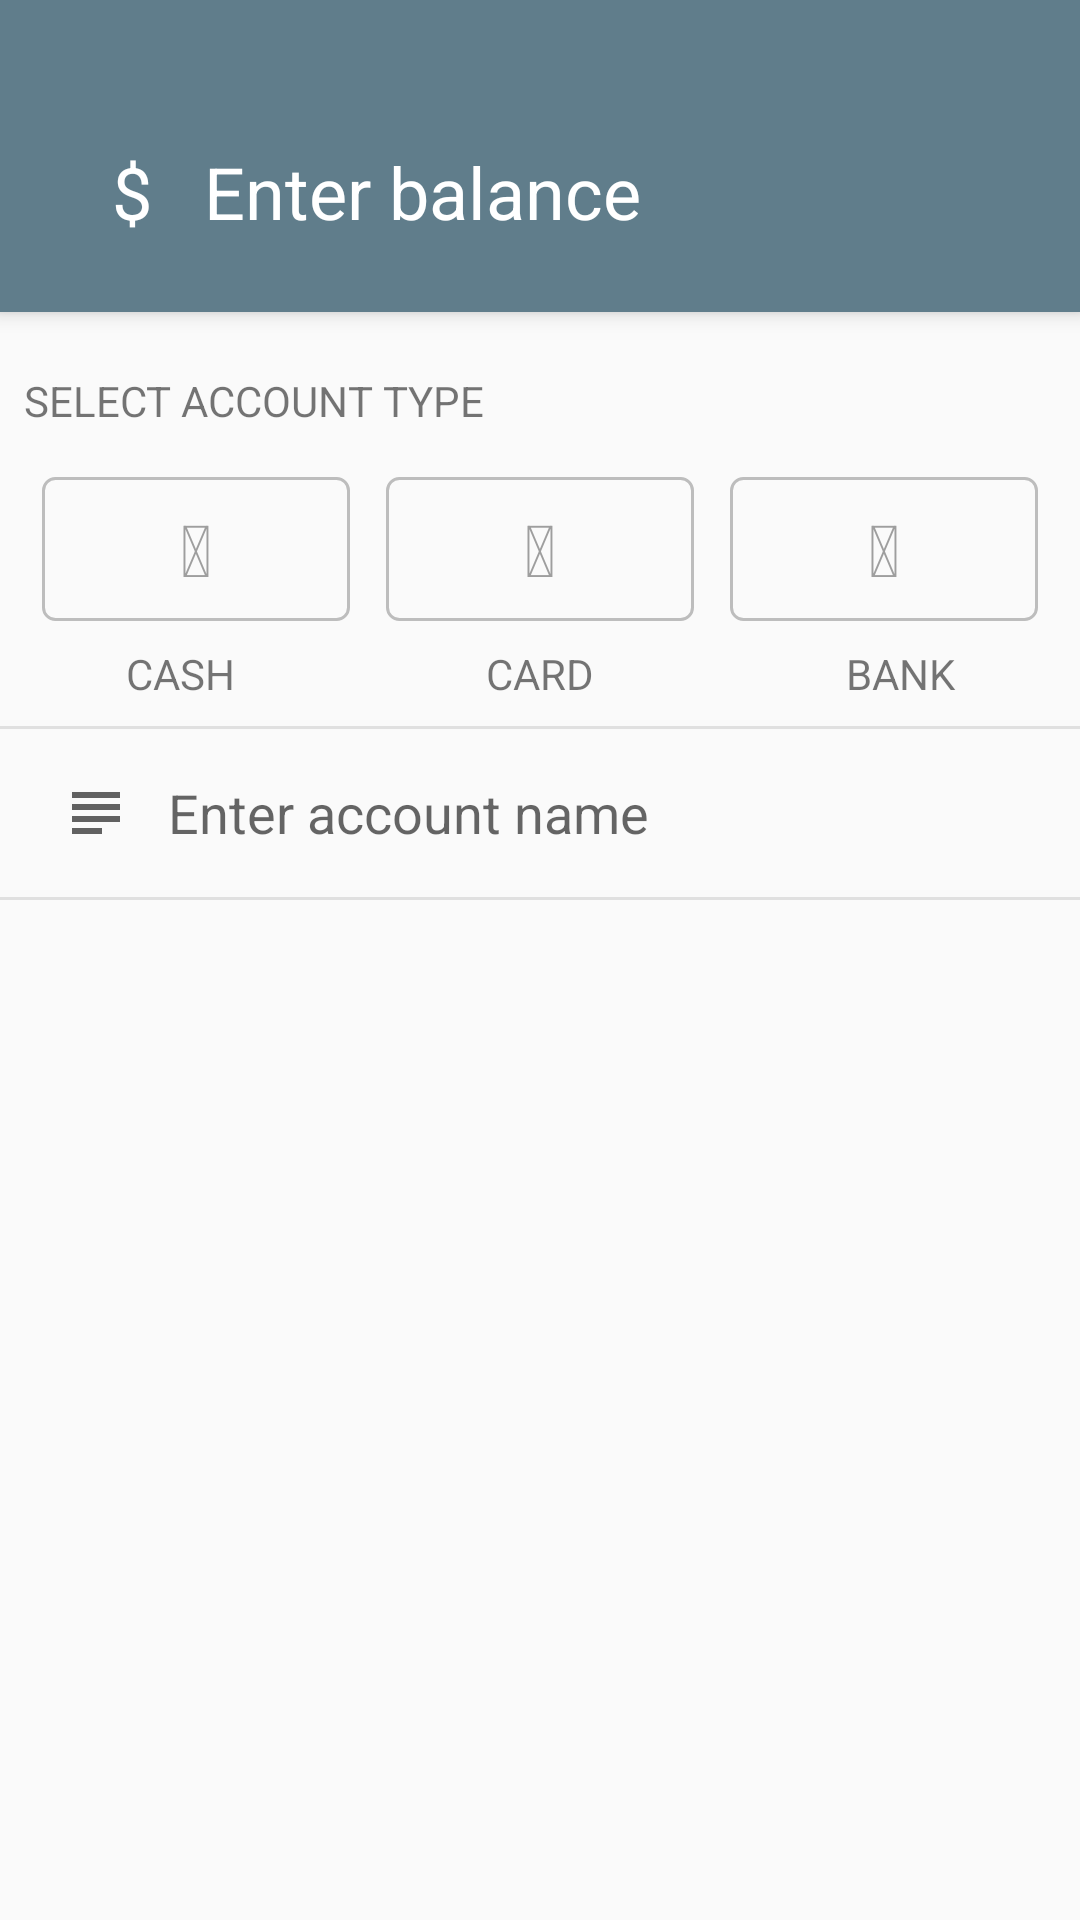

Icons on this 1080 x 1920 Android screen, each with the point to tap as (x=x, y=y):
description: (x=96, y=813)
